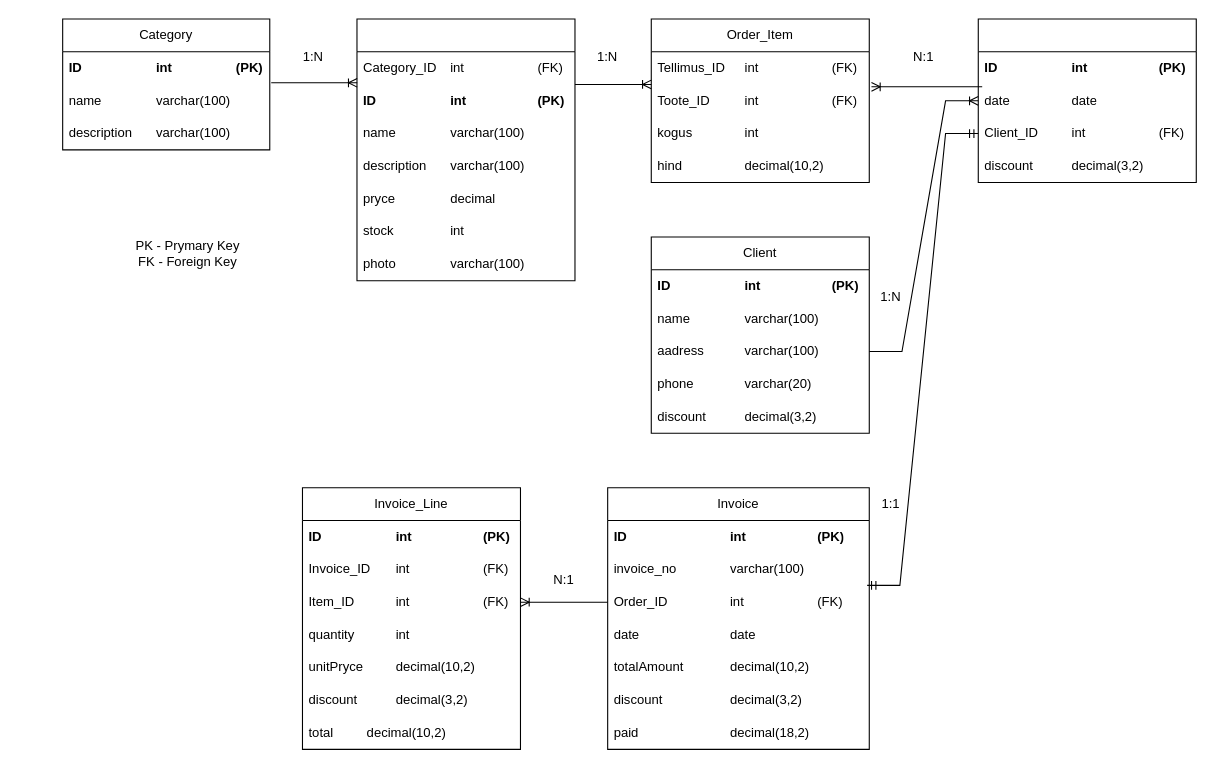
Some shapes in this 1215 by 768 pixel diagram are drawn without their labels. The shapes that lost their labels are listed below. From the top down, each one's box as (x1, y1, x2, y2) in pixels, then its label:
(977, 18, 1196, 183): Order
(356, 18, 575, 281): Item
